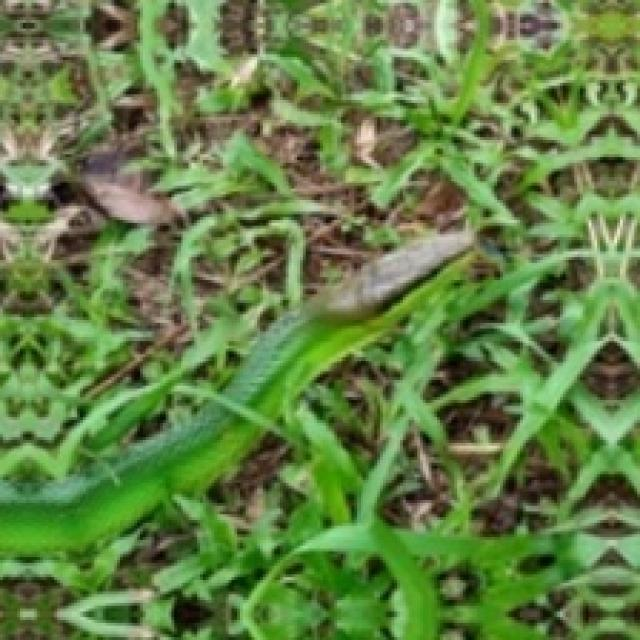red-tailed green ratsnake: (0, 231, 471, 554)
